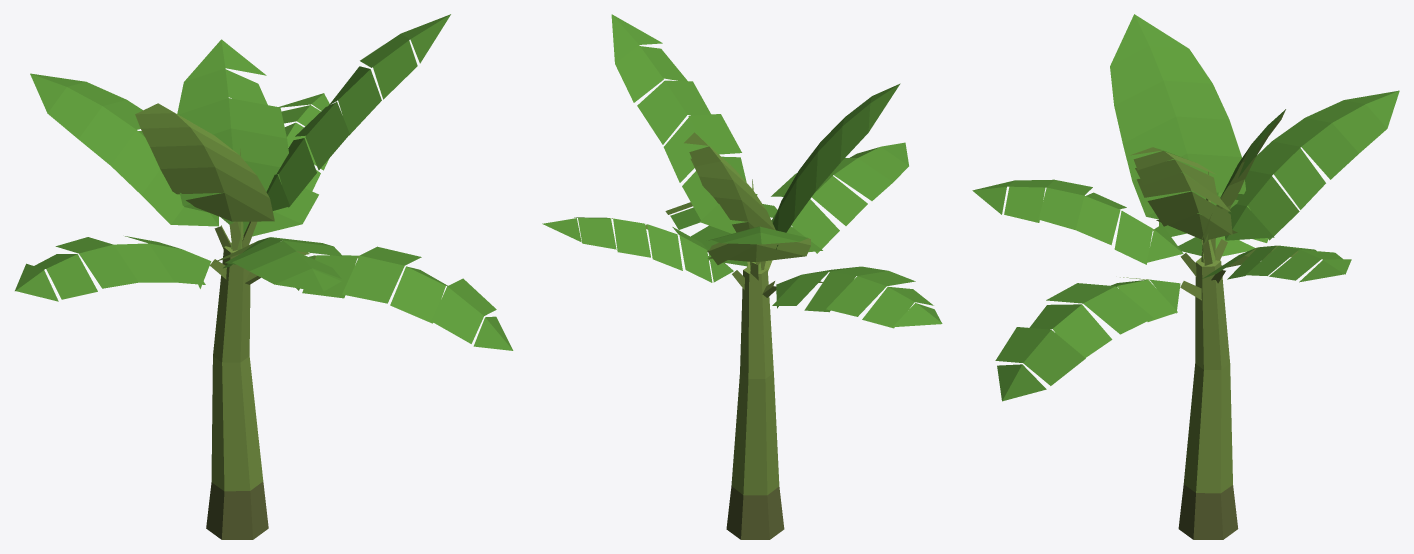
The model's file is F03_BananaTallTorn.glb.
3 views of the same model, side by side, from view 1: azimuth 30°, elevation 25°; view 2: azimuth 150°, elevation 25°; view 3: azimuth 270°, elevation 25° (orthographic). The views are drawn at different scales.
Visible parts, largest first — view 1: F03_BananaTallTorn; view 2: F03_BananaTallTorn; view 3: F03_BananaTallTorn.
Boxes of the visible parts, x1,y1,x2,y2 form: F03_BananaTallTorn: (15, 14, 513, 539); F03_BananaTallTorn: (542, 14, 942, 539); F03_BananaTallTorn: (972, 14, 1399, 539).
Size of the model in its own units: 3.83 by 4.51 by 3.75.
